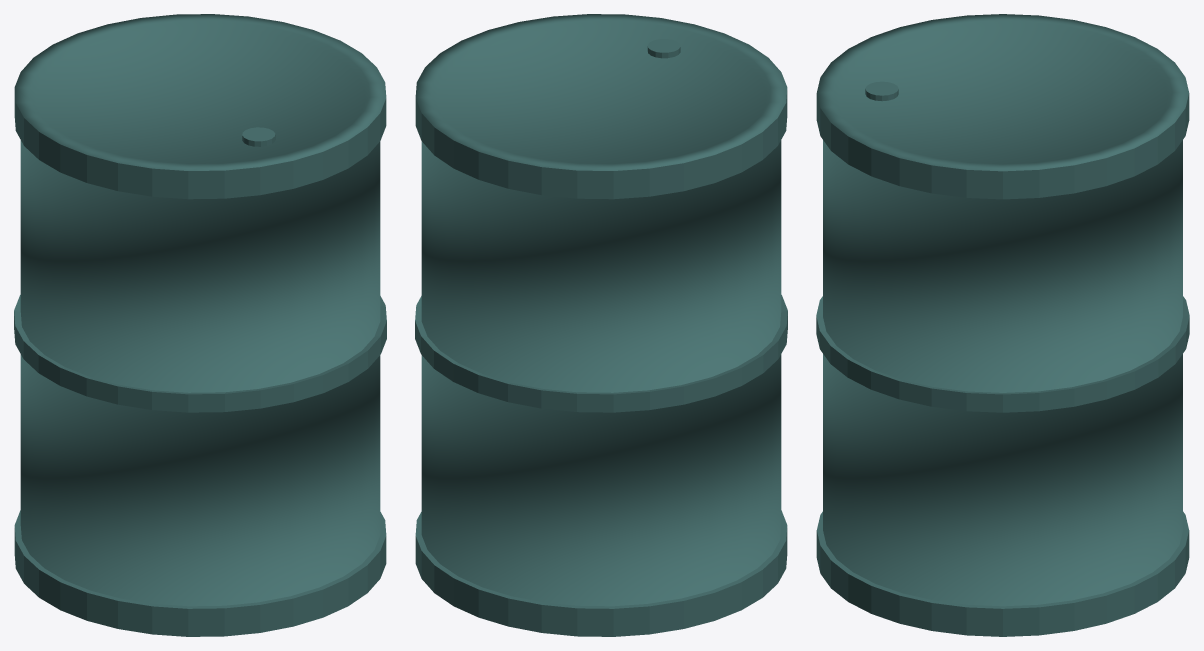
Rendered from Barrel.fbx.
3 views of the same model, side by side, from view 1: azimuth 30°, elevation 25°; view 2: azimuth 150°, elevation 25°; view 3: azimuth 270°, elevation 25° (orthographic).
Parts seen in each view (by area): view 1: Barrel; view 2: Barrel; view 3: Barrel.
Boxes of the visible parts, x1=… form: Barrel: x1=14, y1=14, x2=386, y2=636; Barrel: x1=415, y1=14, x2=787, y2=636; Barrel: x1=816, y1=14, x2=1189, y2=636.
Bounding box in the file's own units: 89.67 × 124 × 89.67.
